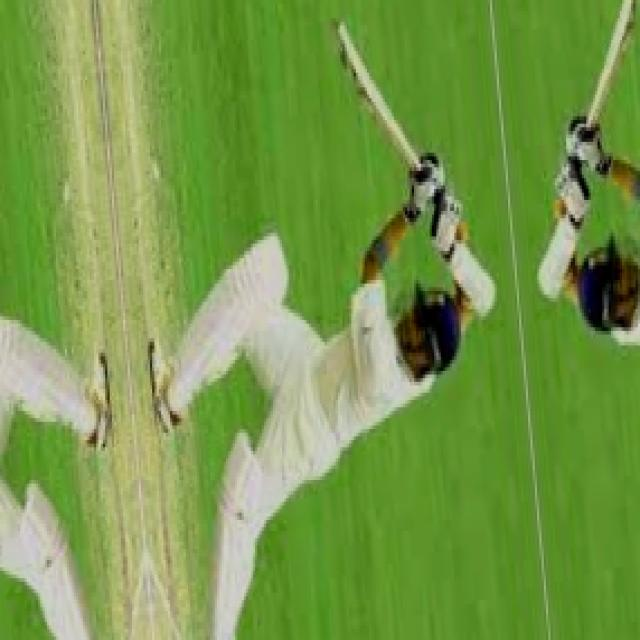toe: (329, 5, 365, 84)
